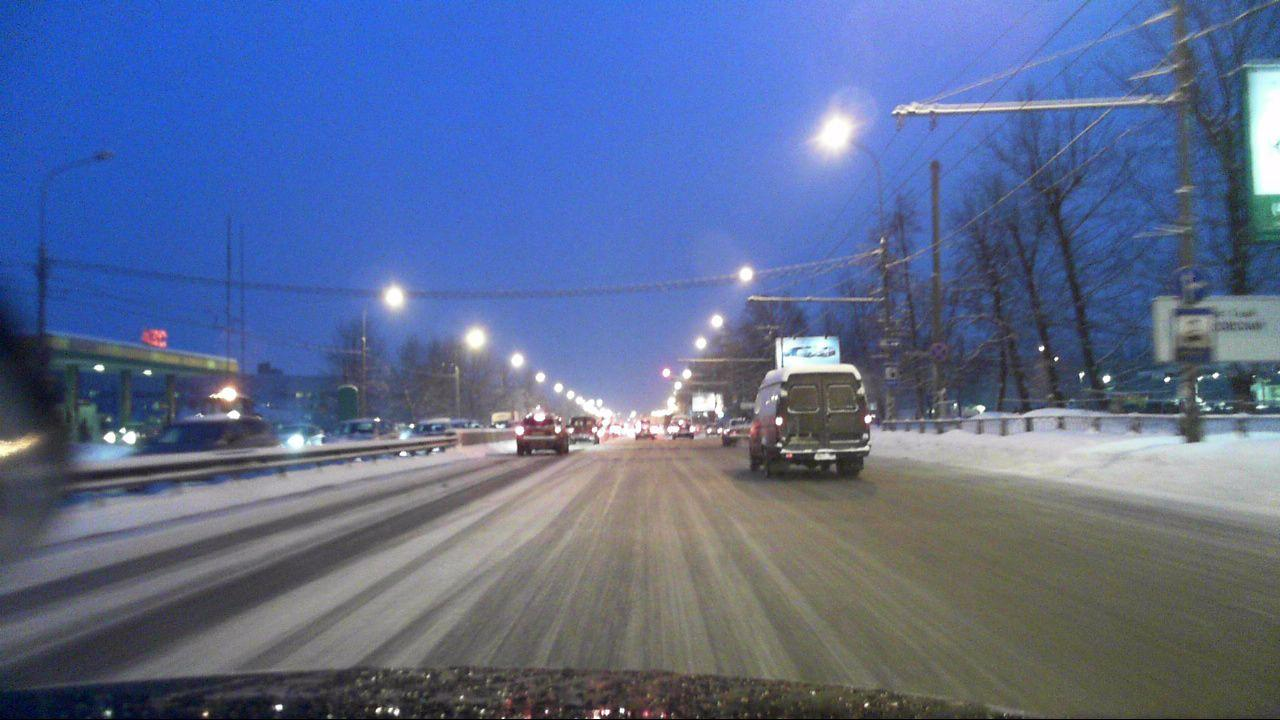7_5: (1171, 307, 1213, 365)
